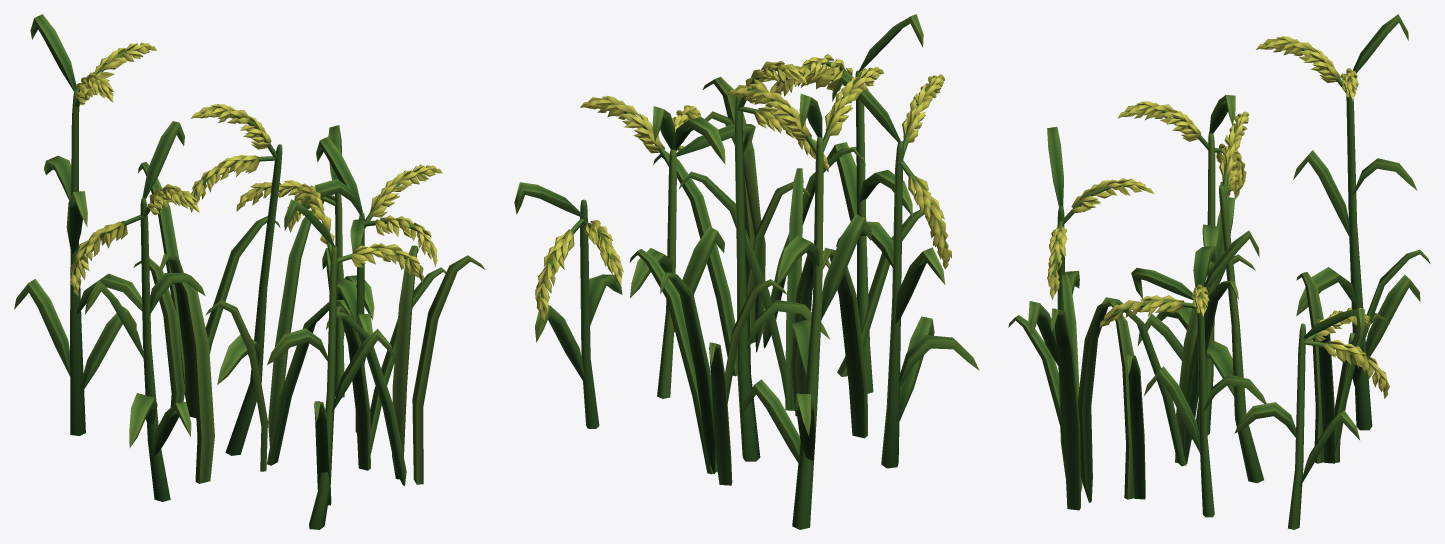
File: SM_Plant_Rice_Lv3.fbx
3 renders of one model, left to right at view 1: azimuth 30°, elevation 25°; view 2: azimuth 150°, elevation 25°; view 3: azimuth 270°, elevation 25°, orthographic. The views are drawn at different scales.
Parts seen in each view (by area): view 1: SM_Plant_Rice_Lv3; view 2: SM_Plant_Rice_Lv3; view 3: SM_Plant_Rice_Lv3.
Part boxes in pixels (bbox=[...]): SM_Plant_Rice_Lv3: bbox=[14, 14, 485, 529]; SM_Plant_Rice_Lv3: bbox=[514, 14, 979, 529]; SM_Plant_Rice_Lv3: bbox=[1008, 14, 1430, 529].
Bounding box in the file's own units: 55.71 × 62.74 × 58.61.
